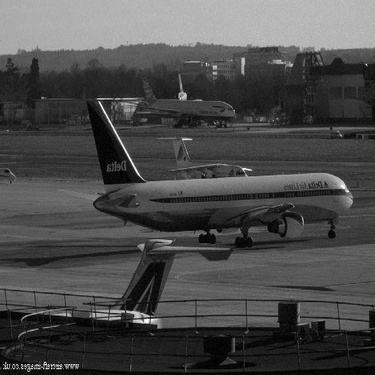airplane: (57, 93, 363, 253), (1, 232, 231, 352), (116, 71, 240, 132), (139, 129, 254, 192), (1, 53, 52, 135), (1, 153, 22, 187)
